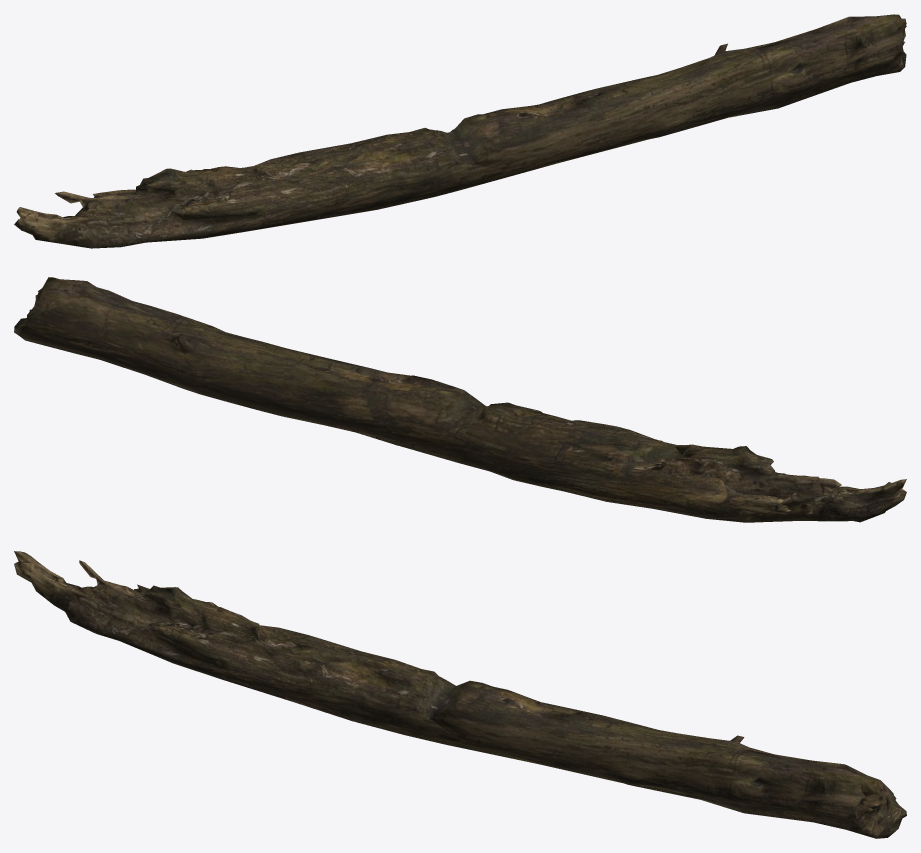
File: log.glb
3 views of the same model, one above another, from view 1: azimuth 30°, elevation 25°; view 2: azimuth 150°, elevation 25°; view 3: azimuth 330°, elevation 25° (orthographic).
Parts seen in each view (by area): view 1: dead_tree_trunk; view 2: dead_tree_trunk; view 3: dead_tree_trunk.
Boxes of the visible parts, box(x1,y1,x2,y2) form: dead_tree_trunk: box(14, 14, 906, 248); dead_tree_trunk: box(14, 277, 906, 522); dead_tree_trunk: box(14, 551, 906, 838).
Bounding box in the file's own units: 3.04 × 0.2863 × 0.2774.
1 material, 1 textured.
